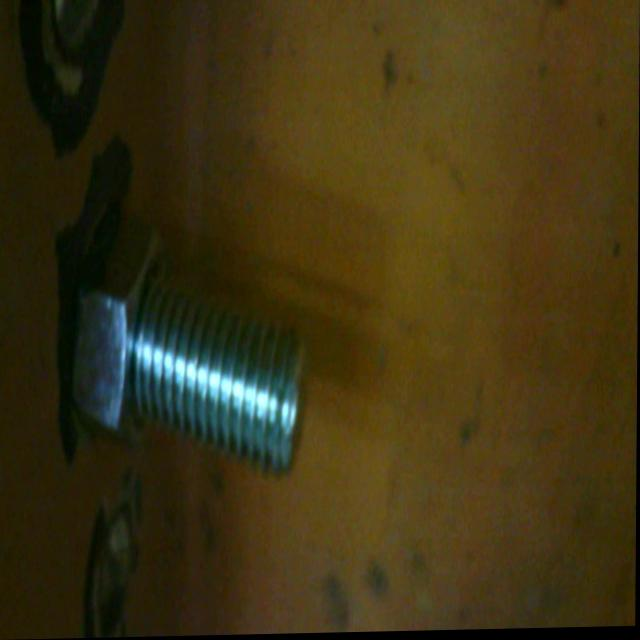Missing bolt: (85, 510, 140, 636), (39, 1, 106, 96)
Regular bolt: (64, 221, 311, 480)
